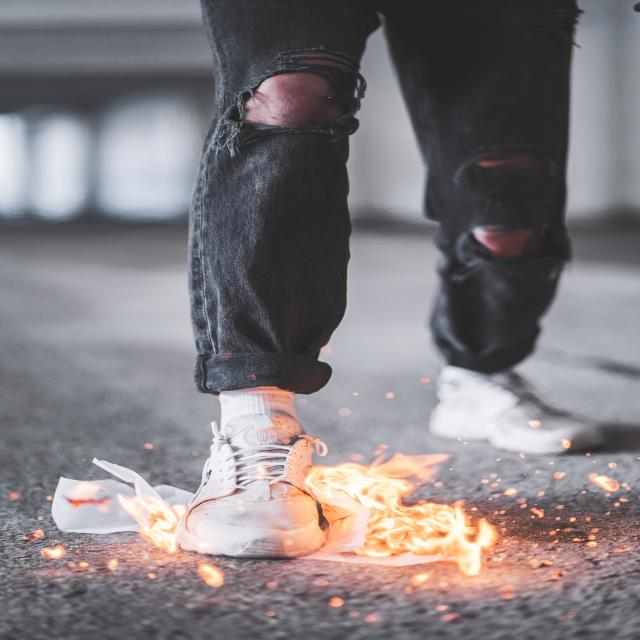fire: (318, 448, 520, 574), (131, 495, 198, 541)
